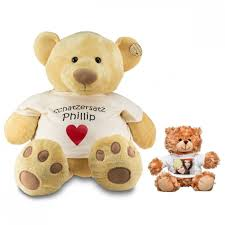teddy: (4, 29, 162, 207), (148, 120, 224, 203)
